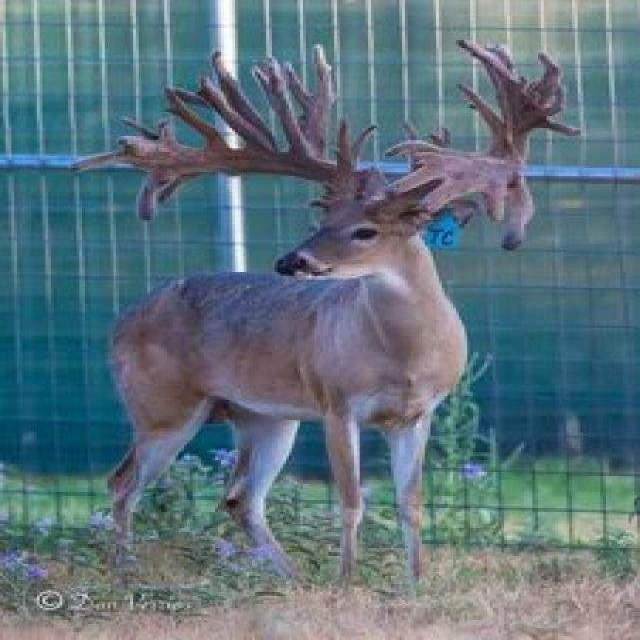deer: (63, 51, 622, 522)
